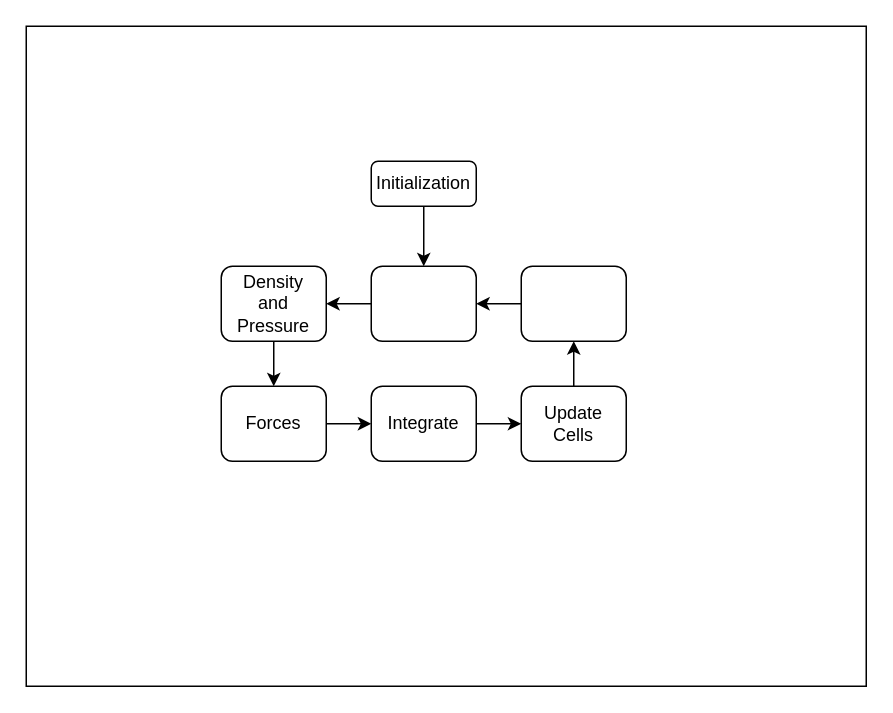
Image size: 893x713. Some labels were removed from this diagram. Here are the shapes that lost their labels. From the top down, the box of each, then its label:
(370, 265, 476, 341): Sort Particles
(520, 265, 626, 341): Render
